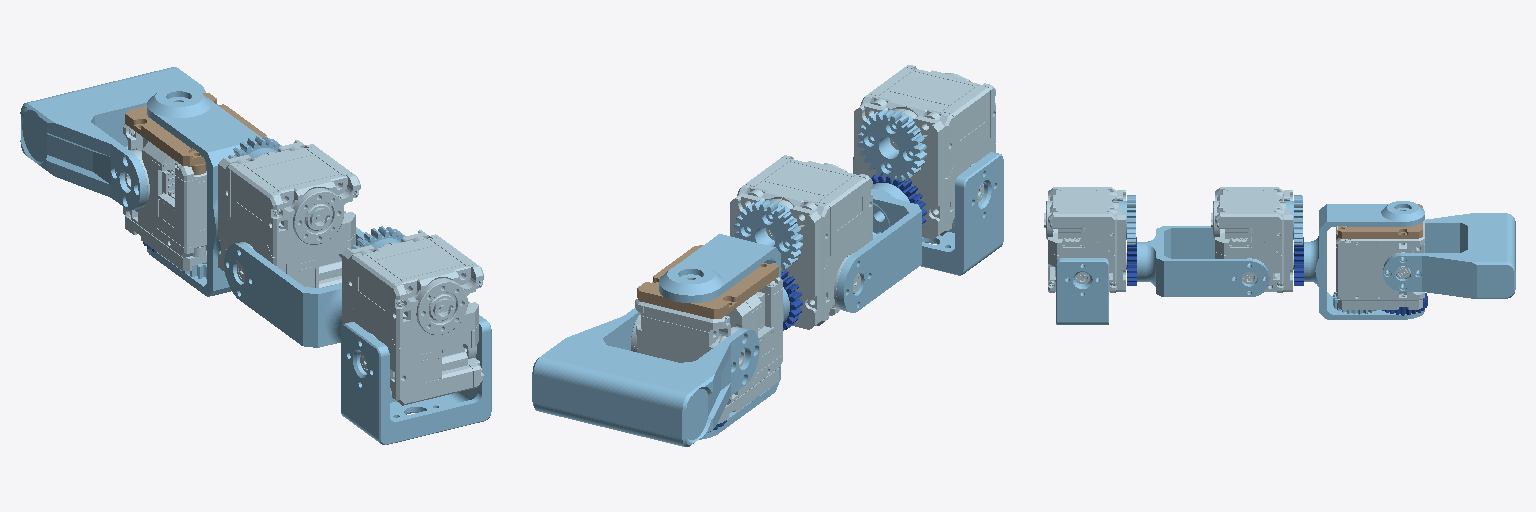
The robot description file, URDF, robot "right_arm_teleop":
<?xml version="1.0" ?><robot name="right_arm_teleop">  
  <link name="sho_pitch_link">    
    <visual>      
      <origin xyz="0 0 0" rpy="0 -0 0"/>      
      <geometry>        
        <mesh filename="package:///meshes/right_sho_pitch_link_visual.stl"/>        
      </geometry>      
      <material name="sho_pitch_link_material">        
        <color rgba="0.61568627450980395466 0.81176470588235294379 0.92941176470588227065 1.0"/>        
      </material>      
    </visual>    
    <collision>      
      <origin xyz="0 0 0" rpy="0 -0 0"/>      
      <geometry>        
        <mesh filename="package:///meshes/right_sho_pitch_link_collision.stl"/>        
      </geometry>      
    </collision>    
    <inertial>      
      <origin xyz="5.8623053609137080132e-19 -2.093155359898892877e-18 0.012913250798677602602" rpy="0 0 0"/>      
      <mass value="0.0085999999999999965361"/>      
      <inertia ixx="1.8365636406635814379e-06" ixy="2.7052466620977962537e-97" ixz="-6.0867229013657673323e-136" iyy="4.0110869076839143695e-06" iyz="-1.6935833339184750708e-44" izz="3.5160516450492489574e-06"/>      
    </inertial>    
  </link>  

  <link name="2xl430_gears">    
    <visual>      
      <origin xyz="0 0 0" rpy="0 -0 0"/>      
      <geometry>        
        <mesh filename="package:///meshes/right_2xl430_gears_visual.stl"/>        
      </geometry>      
      <material name="2xl430_gears_material">        
        <color rgba="0.75914767920569226067 0.85560384745670925444 0.90519468321360618823 1.0"/>        
      </material>      
    </visual>    
    <collision>      
      <origin xyz="0 0 0" rpy="0 -0 0"/>      
      <geometry>        
        <mesh filename="package:///meshes/right_2xl430_gears_collision.stl"/>        
      </geometry>      
    </collision>    
    <inertial>      
      <origin xyz="-0.011592905737978701289 -0.002423855364252283217 -0.018551095523803729642" rpy="0 0 0"/>      
      <mass value="0.11800003674524910113"/>      
      <inertia ixx="2.7511021050424642629e-05" ixy="9.004390431513575392e-07" ixz="-2.3349710123959894463e-08" iyy="3.2796197843346200406e-05" iyz="-6.5715119654693301443e-07" izz="3.5775739835740992176e-05"/>      
    </inertial>    
  </link>  

  <link name="spur_1m_24t_drive">    
    <visual>      
      <origin xyz="0 0 0" rpy="0 -0 0"/>      
      <geometry>        
        <mesh filename="package:///meshes/right_spur_1m_24t_drive_visual.stl"/>        
      </geometry>      
      <material name="spur_1m_24t_drive_material">        
        <color rgba="0.61568627450980395466 0.81176470588235294379 0.92941176470588238168 1.0"/>        
      </material>      
    </visual>    
    <collision>      
      <origin xyz="0 0 0" rpy="0 -0 0"/>      
      <geometry>        
        <mesh filename="package:///meshes/right_spur_1m_24t_drive_collision.stl"/>        
      </geometry>      
    </collision>    
    <inertial>      
      <origin xyz="3.0395267218172985801e-15 -3.3903091190785511235e-16 0.0048096451474093030592" rpy="0 0 0"/>      
      <mass value="0.0031999999999999997197"/>      
      <inertia ixx="1.4097598887016953379e-07" ixy="1.5562823102285579479e-15" ixz="1.6605882923345715573e-36" iyy="1.4097598803635998845e-07" iyz="-8.3571913840291172485e-37" izz="2.4107776386988835496e-07"/>      
    </inertial>    
  </link>  

  <joint name="right_sho_yaw_drive" type="revolute">    
    <origin xyz="-0.024000000716138239487 -0.019000000152445337132 -0.019000000152448428409" rpy="1.5707963267949289765 -7.4034293748640148514e-14 5.4343716361633809931e-15"/>    
    <parent link="2xl430_gears"/>    
    <child link="spur_1m_24t_drive"/>    
    <axis xyz="0 0 1"/>    
    <limit effort="1" velocity="20" lower="-2.6179938779914944114" upper="2.6179938779914944114"/>    
    <joint_properties friction="0.0"/>    
  </joint>  

  <link name="spur_1m_24t_driven">    
    <visual>      
      <origin xyz="0 0 0" rpy="0 -0 0"/>      
      <geometry>        
        <mesh filename="package:///meshes/right_spur_1m_24t_driven_visual.stl"/>        
      </geometry>      
      <material name="spur_1m_24t_driven_material">        
        <color rgba="0.23137254901960788156 0.38039215686274502337 0.7058823529411765163 1.0"/>        
      </material>      
    </visual>    
    <collision>      
      <origin xyz="0 0 0" rpy="0 -0 0"/>      
      <geometry>        
        <mesh filename="package:///meshes/right_spur_1m_24t_driven_collision.stl"/>        
      </geometry>      
    </collision>    
    <inertial>      
      <origin xyz="-2.9351910725637838173e-18 -1.6890438479001191523e-15 -0.00097237500038396124102" rpy="0 0 0"/>      
      <mass value="0.0026999999999999997093"/>      
      <inertia ixx="1.2202334915684080498e-07" ixy="0" ixz="0" iyy="1.2202334915684067263e-07" iyz="5.4109330889528470177e-38" izz="2.3180293204341257533e-07"/>      
    </inertial>    
  </link>  

  <link name="sho_yaw_link">    
    <visual>      
      <origin xyz="0 0 0" rpy="0 -0 0"/>      
      <geometry>        
        <mesh filename="package:///meshes/right_sho_yaw_link_visual.stl"/>        
      </geometry>      
      <material name="sho_yaw_link_material">        
        <color rgba="0.61568627450980395466 0.81176470588235294379 0.92941176470588238168 1.0"/>        
      </material>      
    </visual>    
    <collision>      
      <origin xyz="0 0 0" rpy="0 -0 0"/>      
      <geometry>        
        <mesh filename="package:///meshes/right_sho_yaw_link_collision.stl"/>        
      </geometry>      
    </collision>    
    <inertial>      
      <origin xyz="-4.893347277598767578e-18 1.3692911871620097654e-18 -0.024649285094360075254" rpy="0 0 0"/>      
      <mass value="0.014500000000000007674"/>      
      <inertia ixx="9.2365904614004456494e-06" ixy="3.5862833440653475167e-13" ixz="4.2428946958051531784e-43" iyy="5.8163826335078808654e-06" iyz="5.1262783558831210007e-36" izz="4.5074356741562130501e-06"/>      
    </inertial>    
  </link>  

  <link name="2xl430_gears_2">    
    <visual>      
      <origin xyz="0 0 0" rpy="0 -0 0"/>      
      <geometry>        
        <mesh filename="package:///meshes/right_2xl430_gears_2_visual.stl"/>        
      </geometry>      
      <material name="2xl430_gears_2_material">        
        <color rgba="0.75914767920569226067 0.85560384745670925444 0.90519468321360618823 1.0"/>        
      </material>      
    </visual>    
    <collision>      
      <origin xyz="0 0 0" rpy="0 -0 0"/>      
      <geometry>        
        <mesh filename="package:///meshes/right_2xl430_gears_2_collision.stl"/>        
      </geometry>      
    </collision>    
    <inertial>      
      <origin xyz="-0.011592905737984604553 -0.002423855364252079387 -0.018551095523805894577" rpy="0 0 0"/>      
      <mass value="0.11800003674524910113"/>      
      <inertia ixx="2.751102105042605548e-05" ixy="9.0043904315051569433e-07" ixz="-2.3349710123664620763e-08" iyy="3.2796197843347216845e-05" iyz="-6.571511965472465225e-07" izz="3.5775739835742259337e-05"/>      
    </inertial>    
  </link>  

  <link name="spur_1m_24t_drive_2">    
    <visual>      
      <origin xyz="0 0 0" rpy="0 -0 0"/>      
      <geometry>        
        <mesh filename="package:///meshes/right_spur_1m_24t_drive_2_visual.stl"/>        
      </geometry>      
      <material name="spur_1m_24t_drive_2_material">        
        <color rgba="0.61568627450980395466 0.81176470588235294379 0.92941176470588238168 1.0"/>        
      </material>      
    </visual>    
    <collision>      
      <origin xyz="0 0 0" rpy="0 -0 0"/>      
      <geometry>        
        <mesh filename="package:///meshes/right_spur_1m_24t_drive_2_collision.stl"/>        
      </geometry>      
    </collision>    
    <inertial>      
      <origin xyz="3.0256489340094841233e-15 -3.3903091193370450649e-16 0.0048096451474092995898" rpy="0 0 0"/>      
      <mass value="0.0031999999999999997197"/>      
      <inertia ixx="1.4097598887016953379e-07" ixy="1.5562823102285579479e-15" ixz="-1.1714522882850340424e-35" iyy="1.4097598803635998845e-07" iyz="2.4985956247299928684e-36" izz="2.4107776386988835496e-07"/>      
    </inertial>    
  </link>  

  <joint name="right_elbow_yaw_drive" type="revolute">    
    <origin xyz="-0.024000000716147162905 -0.019000000152450832736 -0.019000000152450294971" rpy="1.5707963267949571762 2.9595367256237359919e-14 -6.4343145465762955833e-14"/>    
    <parent link="2xl430_gears_2"/>    
    <child link="spur_1m_24t_drive_2"/>    
    <axis xyz="0 0 1"/>    
    <limit effort="1" velocity="20" lower="-2.6179938779914944114" upper="2.6179938779914944114"/>    
    <joint_properties friction="0.0"/>    
  </joint>  

  <link name="spur_1m_24t_driven_2">    
    <visual>      
      <origin xyz="0 0 0" rpy="0 -0 0"/>      
      <geometry>        
        <mesh filename="package:///meshes/right_spur_1m_24t_driven_2_visual.stl"/>        
      </geometry>      
      <material name="spur_1m_24t_driven_2_material">        
        <color rgba="0.23137254901960788156 0.38039215686274502337 0.7058823529411765163 1.0"/>        
      </material>      
    </visual>    
    <collision>      
      <origin xyz="0 0 0" rpy="0 -0 0"/>      
      <geometry>        
        <mesh filename="package:///meshes/right_spur_1m_24t_driven_2_collision.stl"/>        
      </geometry>      
    </collision>    
    <inertial>      
      <origin xyz="-2.9351910725637838173e-18 -1.6890438479001201384e-15 -0.0009723750003839680715" rpy="0 0 0"/>      
      <mass value="0.0026999999999999997093"/>      
      <inertia ixx="1.2202334915684080498e-07" ixy="0" ixz="0" iyy="1.2202334915684067263e-07" iyz="-8.3562117944353069172e-37" izz="2.3180293204341257533e-07"/>      
    </inertial>    
  </link>  

  <link name="elb_yaw_link">    
    <visual>      
      <origin xyz="0 0 0" rpy="0 -0 0"/>      
      <geometry>        
        <mesh filename="package:///meshes/right_elb_yaw_link_visual.stl"/>        
      </geometry>      
      <material name="elb_yaw_link_material">        
        <color rgba="0.61568627450980395466 0.81176470588235294379 0.9294117647058824927 1.0"/>        
      </material>      
    </visual>    
    <collision>      
      <origin xyz="0 0 0" rpy="0 -0 0"/>      
      <geometry>        
        <mesh filename="package:///meshes/right_elb_yaw_link_collision.stl"/>        
      </geometry>      
    </collision>    
    <inertial>      
      <origin xyz="5.3127688027629610046e-08 0.0019833638641961644222 -0.023416643551549969765" rpy="0 0 0"/>      
      <mass value="0.017499999999999994726"/>      
      <inertia ixx="1.4134344903109187917e-05" ixy="1.694578392202575009e-12" ixz="-1.1286398721840430294e-11" iyy="6.6435900776211281112e-06" iyz="1.0545227077253053344e-06" izz="8.9925290757998942891e-06"/>      
    </inertial>    
  </link>  

  <link name="spur_1m_24t_driven_3">    
    <visual>      
      <origin xyz="0 0 0" rpy="0 -0 0"/>      
      <geometry>        
        <mesh filename="package:///meshes/right_spur_1m_24t_driven_3_visual.stl"/>        
      </geometry>      
      <material name="spur_1m_24t_driven_3_material">        
        <color rgba="0.23137254901960788156 0.38039215686274502337 0.7058823529411765163 1.0"/>        
      </material>      
    </visual>    
    <collision>      
      <origin xyz="0 0 0" rpy="0 -0 0"/>      
      <geometry>        
        <mesh filename="package:///meshes/right_spur_1m_24t_driven_3_collision.stl"/>        
      </geometry>      
    </collision>    
    <inertial>      
      <origin xyz="-2.9351910725637834322e-18 -1.6890438479001221105e-15 -0.0025723750003839619682" rpy="0 0 0"/>      
      <mass value="0.0026999999999999997093"/>      
      <inertia ixx="1.2202334915684080498e-07" ixy="-7.8016009100162694729e-37" ixz="6.1636049551788620892e-36" iyy="1.2202334915684067263e-07" iyz="3.0123252689659635237e-38" izz="2.3180293204341257533e-07"/>      
    </inertial>    
  </link>  

  <link name="2xl430_gears_3">    
    <visual>      
      <origin xyz="0 0 0" rpy="0 -0 0"/>      
      <geometry>        
        <mesh filename="package:///meshes/right_2xl430_gears_3_visual.stl"/>        
      </geometry>      
      <material name="2xl430_gears_3_material">        
        <color rgba="0.75914767920569226067 0.85560384745670925444 0.90519468321360618823 1.0"/>        
      </material>      
    </visual>    
    <collision>      
      <origin xyz="0 0 0" rpy="0 -0 0"/>      
      <geometry>        
        <mesh filename="package:///meshes/right_2xl430_gears_3_collision.stl"/>        
      </geometry>      
    </collision>    
    <inertial>      
      <origin xyz="0.00044890447620021475556 0.011592905379911498664 -0.024576144788197407803" rpy="0 0 0"/>      
      <mass value="0.11800003674524910113"/>      
      <inertia ixx="3.5775739835742557493e-05" ixy="2.3349710123612935209e-08" ixz="6.571511965466892807e-07" iyy="2.7511021050425459169e-05" iyz="9.0043904315230505143e-07" izz="3.2796197843346600205e-05"/>      
    </inertial>    
  </link>  

  <link name="spur_1m_24t_drive_3">    
    <visual>      
      <origin xyz="0 0 0" rpy="0 -0 0"/>      
      <geometry>        
        <mesh filename="package:///meshes/right_spur_1m_24t_drive_3_visual.stl"/>        
      </geometry>      
      <material name="spur_1m_24t_drive_3_material">        
        <color rgba="0.61568627450980395466 0.81176470588235294379 0.92941176470588238168 1.0"/>        
      </material>      
    </visual>    
    <collision>      
      <origin xyz="0 0 0" rpy="0 -0 0"/>      
      <geometry>        
        <mesh filename="package:///meshes/right_spur_1m_24t_drive_3_collision.stl"/>        
      </geometry>      
    </collision>    
    <inertial>      
      <origin xyz="3.0325878279133913517e-15 -3.3903091193370440789e-16 0.004809645147409304794" rpy="0 0 0"/>      
      <mass value="0.0031999999999999997197"/>      
      <inertia ixx="1.4097598887016953379e-07" ixy="1.5562823147747680778e-15" ixz="1.1927973793658304695e-36" iyy="1.4097598803635996198e-07" iyz="-2.1291925933301558686e-37" izz="2.4107776386988835496e-07"/>      
    </inertial>    
  </link>  

  <joint name="right_wrist_pitch_drive" type="revolute">    
    <origin xyz="-1.5244304577405686261e-10 0.024000000358071177375 -0.0080000000000011832479" rpy="-1.0519265191422955506e-14 5.4953979628752545946e-14 -1.5707963267949167641"/>    
    <parent link="2xl430_gears_3"/>    
    <child link="spur_1m_24t_drive_3"/>    
    <axis xyz="0 0 1"/>    
    <limit effort="1" velocity="20" lower="-1.3962634015954635824" upper="1.9198621771937625091"/>    
    <joint_properties friction="0.0"/>    
  </joint>  

  <link name="hand">    
    <visual>      
      <origin xyz="0 0 0" rpy="0 -0 0"/>      
      <geometry>        
        <mesh filename="package:///meshes/right_hand_visual.stl"/>        
      </geometry>      
      <material name="hand_material">        
        <color rgba="0.61568627450980395466 0.81176470588235294379 0.92941176470588238168 1.0"/>        
      </material>      
    </visual>    
    <collision>      
      <origin xyz="0 0 0" rpy="0 -0 0"/>      
      <geometry>        
        <mesh filename="package:///meshes/right_hand_collision.stl"/>        
      </geometry>      
    </collision>    
    <inertial>      
      <origin xyz="-2.4899508246336218787e-10 0.040594531666389037372 -0.018520936085747969485" rpy="0 0 0"/>      
      <mass value="0.017000000000001441042"/>      
      <inertia ixx="9.218759418532231992e-06" ixy="-1.5922041095748070951e-15" ixz="-1.0539511470560742215e-13" iyy="6.6718567758212721637e-06" iyz="2.1533596775200800956e-08" izz="3.7788698411876585756e-06"/>      
    </inertial>    
  </link>  

  <joint name="right_wrist_roll" type="revolute">    
    <origin xyz="0.019000000000001921602 -3.5806768661217347471e-10 -0.027000000152449941254" rpy="-3.141592653589793116 -1.5707963267945153074 0"/>    
    <parent link="2xl430_gears_3"/>    
    <child link="hand"/>    
    <axis xyz="0 0 1"/>    
    <limit effort="1" velocity="20" lower="-1.3962634015954635824" upper="1.9198621771937625091"/>    
    <joint_properties friction="0.0"/>    
  </joint>  

  <link name="wrist_bearing_plate">    
    <visual>      
      <origin xyz="0 0 0" rpy="0 -0 0"/>      
      <geometry>        
        <mesh filename="package:///meshes/right_wrist_bearing_plate_visual.stl"/>        
      </geometry>      
      <material name="wrist_bearing_plate_material">        
        <color rgba="0.71932243125689065977 0.63128434304969727187 0.52422389360984933404 1.0"/>        
      </material>      
    </visual>    
    <collision>      
      <origin xyz="0 0 0" rpy="0 -0 0"/>      
      <geometry>        
        <mesh filename="package:///meshes/right_wrist_bearing_plate_collision.stl"/>        
      </geometry>      
    </collision>    
    <inertial>      
      <origin xyz="-0.0075835583121499549816 -0.015499999999999977338 -0.001838632370590330108" rpy="0 0 0"/>      
      <mass value="0.0049000367468305548388"/>      
      <inertia ixx="4.9707430109150129132e-07" ixy="2.1995137804966646982e-22" ixz="1.8100904820814005469e-08" iyy="7.1268523603538553059e-07" iyz="-6.2140393260878319247e-23" izz="1.1919657811600115587e-06"/>      
    </inertial>    
  </link>  

  <joint name="right_wrist_pitch_fixed" type="fixed">    
    <origin xyz="0.015500000000003960263 4.4964032497318839887e-15 -0.045000000000003877176" rpy="5.3290705180300221726e-15 1.2051470932306253475e-13 -1.570796326794896558"/>    
    <parent link="2xl430_gears_3"/>    
    <child link="wrist_bearing_plate"/>    
    <axis xyz="0 0 1"/>    
    <limit effort="1" velocity="20"/>    
    <joint_properties friction="0.0"/>    
  </joint>  

  <joint name="right_wrist_pitch_driven" type="revolute">    
    <origin xyz="0 -1.1832913578315177081e-30 -0.001599999999999998342" rpy="8.7209719320528352177e-15 6.1232340007911075566e-17 1.5707963267948947816"/>    
    <parent link="spur_1m_24t_driven_3"/>    
    <child link="2xl430_gears_3"/>    
    <axis xyz="0 0 1"/>    
    <limit effort="1" velocity="20" lower="-1.9198621771937625091" upper="1.3962634015954635824"/>    
    <joint_properties friction="0.0"/>    
  </joint>  

  <joint name="right_wrist_roll_fixed" type="fixed">    
    <origin xyz="1.1832913578315177081e-30 -0.025300000000000003042 -0.051999999999999990674" rpy="1.5707963267949385244 1.570796326794896558 0"/>    
    <parent link="elb_yaw_link"/>    
    <child link="spur_1m_24t_driven_3"/>    
    <axis xyz="0 0 1"/>    
    <limit effort="1" velocity="20"/>    
    <joint_properties friction="0.0"/>    
  </joint>  

  <joint name="right_elbow_yaw_fixed" type="fixed">    
    <origin xyz="-3.4694469519536141888e-18 0 0.0015999999999999903189" rpy="-3.1415926535897917837 -5.545896421255929151e-30 -1.570796326794896558"/>    
    <parent link="spur_1m_24t_driven_2"/>    
    <child link="elb_yaw_link"/>    
    <axis xyz="0 0 1"/>    
    <limit effort="1" velocity="20"/>    
    <joint_properties friction="0.0"/>    
  </joint>  

  <joint name="right_elbow_yaw_driven" type="revolute">    
    <origin xyz="-3.5807115605912542833e-10 -0.027000000152453046409 -0.01900000000000281325" rpy="1.5707963267949573982 3.0852757707134402472e-14 -1.047495423780654911e-13"/>    
    <parent link="2xl430_gears_2"/>    
    <child link="spur_1m_24t_driven_2"/>    
    <axis xyz="0 0 1"/>    
    <limit effort="1" velocity="20" lower="-2.6179938779914944114" upper="2.6179938779914944114"/>    
    <joint_properties friction="0.0"/>    
  </joint>  

  <joint name="right_elbow_roll" type="revolute">    
    <origin xyz="-3.4694469519536141888e-18 -0.018999999999999996059 -0.058999999999999996891" rpy="1.570796326794896558 -3.2439825080223504913e-13 -2.9976021665407794952e-15"/>    
    <parent link="sho_yaw_link"/>    
    <child link="2xl430_gears_2"/>    
    <axis xyz="0 0 1"/>    
    <limit effort="1" velocity="20" lower="-1.9198621771937625091" upper="2.4434609527920612138"/>    
    <joint_properties friction="0.0"/>    
  </joint>  

  <joint name="right_sho_yaw_fixed" type="fixed">    
    <origin xyz="0 3.9443045261050590271e-31 0.0016000000000000041966" rpy="3.141592653589793116 -0 0"/>    
    <parent link="spur_1m_24t_driven"/>    
    <child link="sho_yaw_link"/>    
    <axis xyz="0 0 1"/>    
    <limit effort="1" velocity="20"/>    
    <joint_properties friction="0.0"/>    
  </joint>  

  <joint name="right_sho_yaw_driven" type="revolute">    
    <origin xyz="-3.5806817233474674822e-10 -0.027000000152446655688 -0.019000000000003357953" rpy="1.5707963267949260899 -2.2055090607972632104e-14 -2.2204460492023508308e-16"/>    
    <parent link="2xl430_gears"/>    
    <child link="spur_1m_24t_driven"/>    
    <axis xyz="0 0 1"/>    
    <limit effort="1" velocity="20" lower="-2.6179938779914944114" upper="2.6179938779914944114"/>    
    <joint_properties friction="0.0"/>    
  </joint>  

  <joint name="right_sho_roll" type="revolute">    
    <origin xyz="-0.018999999999999999528 9.3328123007362138249e-18 0.027000000000000006634" rpy="-3.1415926535897797933 1.5707963267948090724 0"/>    
    <parent link="sho_pitch_link"/>    
    <child link="2xl430_gears"/>    
    <axis xyz="0 0 1"/>    
    <limit effort="1" velocity="20" lower="-1.570796326794896558" upper="0.34906585039886589561"/>    
    <joint_properties friction="0.0"/>    
  </joint>  


</robot>

--- Render facts (derived) ---
3 views of the same robot in one strip: view 1: azimuth 30°, elevation 25°; view 2: azimuth 150°, elevation 25°; view 3: azimuth 270°, elevation 25° (orthographic).
Robot: right_arm_teleop — 14 links, 13 joints (9 revolute, 4 fixed); root link sho_pitch_link; default pose: every joint at zero.
Links seen in each view (by area): view 1: 2xl430_gears, 2xl430_gears_2, hand, sho_pitch_link, 2xl430_gears_3, elb_yaw_link, sho_yaw_link, wrist_bearing_plate, spur_1m_24t_drive_2, spur_1m_24t_drive; view 2: hand, 2xl430_gears_2, 2xl430_gears, 2xl430_gears_3, sho_yaw_link, sho_pitch_link, elb_yaw_link, spur_1m_24t_drive, wrist_bearing_plate, spur_1m_24t_drive_2, spur_1m_24t_driven_2, spur_1m_24t_driven; view 3: hand, sho_yaw_link, 2xl430_gears_2, 2xl430_gears, 2xl430_gears_3, elb_yaw_link, sho_pitch_link, wrist_bearing_plate, spur_1m_24t_drive, spur_1m_24t_drive_2.
Link boxes in pixels (left/top/right/bottom): 2xl430_gears: left=342, top=230, right=483, bottom=405; 2xl430_gears_2: left=218, top=140, right=360, bottom=287; hand: left=20, top=67, right=205, bottom=209; sho_pitch_link: left=341, top=315, right=491, bottom=444; 2xl430_gears_3: left=123, top=124, right=206, bottom=270; elb_yaw_link: left=147, top=87, right=261, bottom=296; sho_yaw_link: left=224, top=227, right=364, bottom=347; wrist_bearing_plate: left=125, top=93, right=266, bottom=174; spur_1m_24t_drive_2: left=228, top=136, right=281, bottom=158; spur_1m_24t_drive: left=351, top=226, right=405, bottom=248; hand: left=532, top=308, right=759, bottom=446; 2xl430_gears_2: left=730, top=155, right=872, bottom=329; 2xl430_gears: left=854, top=65, right=995, bottom=238; 2xl430_gears_3: left=631, top=277, right=782, bottom=423; sho_yaw_link: left=836, top=183, right=921, bottom=312; sho_pitch_link: left=853, top=152, right=1003, bottom=275; elb_yaw_link: left=659, top=234, right=789, bottom=439; spur_1m_24t_drive: left=858, top=109, right=926, bottom=181; wrist_bearing_plate: left=637, top=245, right=778, bottom=318; spur_1m_24t_drive_2: left=734, top=200, right=802, bottom=269; spur_1m_24t_driven_2: left=781, top=270, right=802, bottom=330; spur_1m_24t_driven: left=871, top=173, right=926, bottom=227; hand: left=1383, top=213, right=1515, bottom=298; sho_yaw_link: left=1137, top=226, right=1269, bottom=296; 2xl430_gears_2: left=1211, top=187, right=1293, bottom=292; 2xl430_gears: left=1044, top=187, right=1126, bottom=292; 2xl430_gears_3: left=1336, top=220, right=1424, bottom=309; elb_yaw_link: left=1304, top=201, right=1424, bottom=319; sho_pitch_link: left=1056, top=258, right=1108, bottom=324; wrist_bearing_plate: left=1336, top=204, right=1422, bottom=239; spur_1m_24t_drive: left=1119, top=195, right=1135, bottom=244; spur_1m_24t_drive_2: left=1286, top=195, right=1302, bottom=244.
Size in the robot's own frame: 0.063 by 0.2472 by 0.0652 metres.
14 mesh visuals loaded from 14 distinct referenced files (14 binary STL).